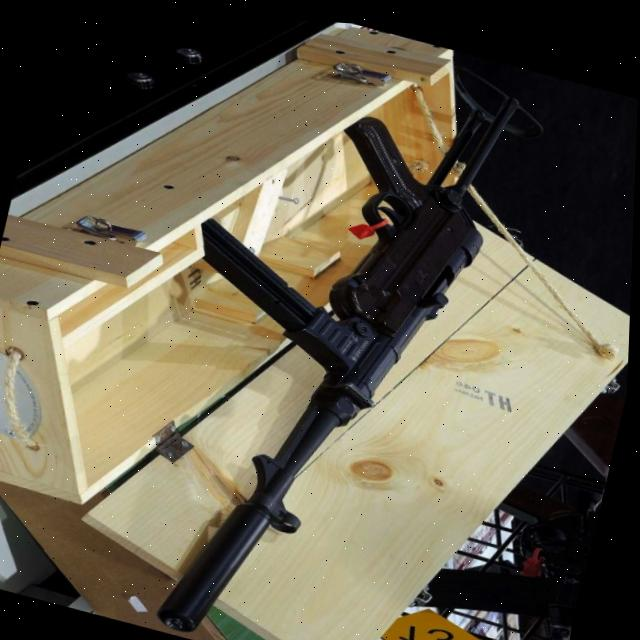firearm: (112, 7, 562, 640)
